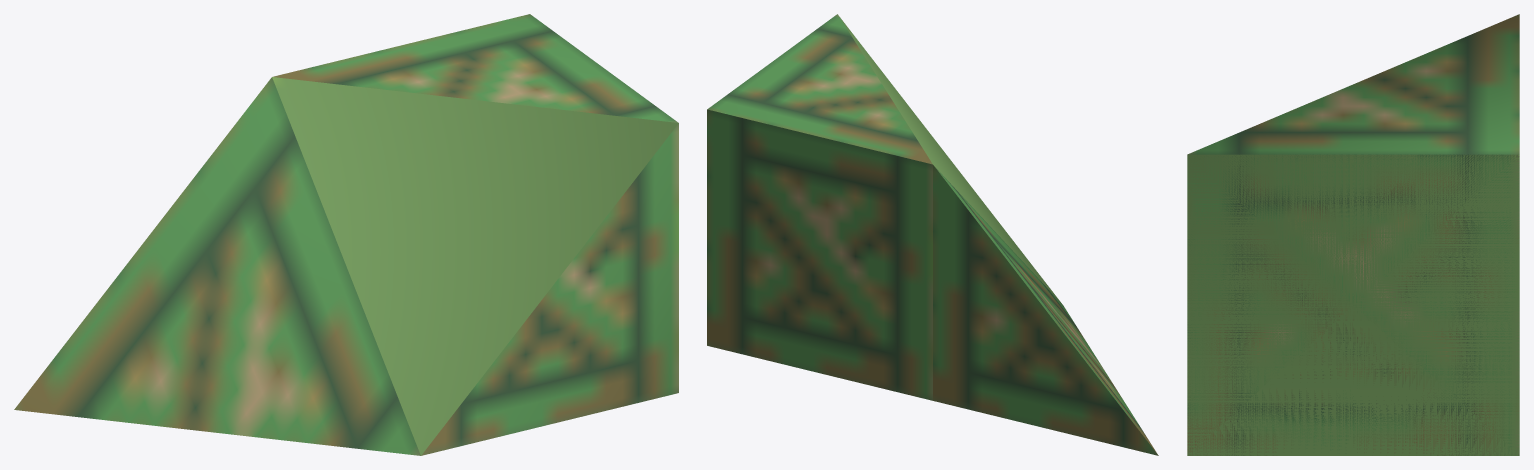
File: cube-3-vertex-point-cut-1-armed-32x16x16.obj
3 renders of one model, left to right at view 1: azimuth 30°, elevation 25°; view 2: azimuth 150°, elevation 25°; view 3: azimuth 270°, elevation 25°, orthographic. The views are drawn at different scales.
Parts seen in each view (by area): view 1: Default; view 2: Default; view 3: Default.
Boxes of the visible parts, x1,y1,x2,y2 form: Default: (14,14,678,455); Default: (707,14,1158,455); Default: (1187,14,1519,455).
Size of the model in its own units: 2 by 1 by 1.
